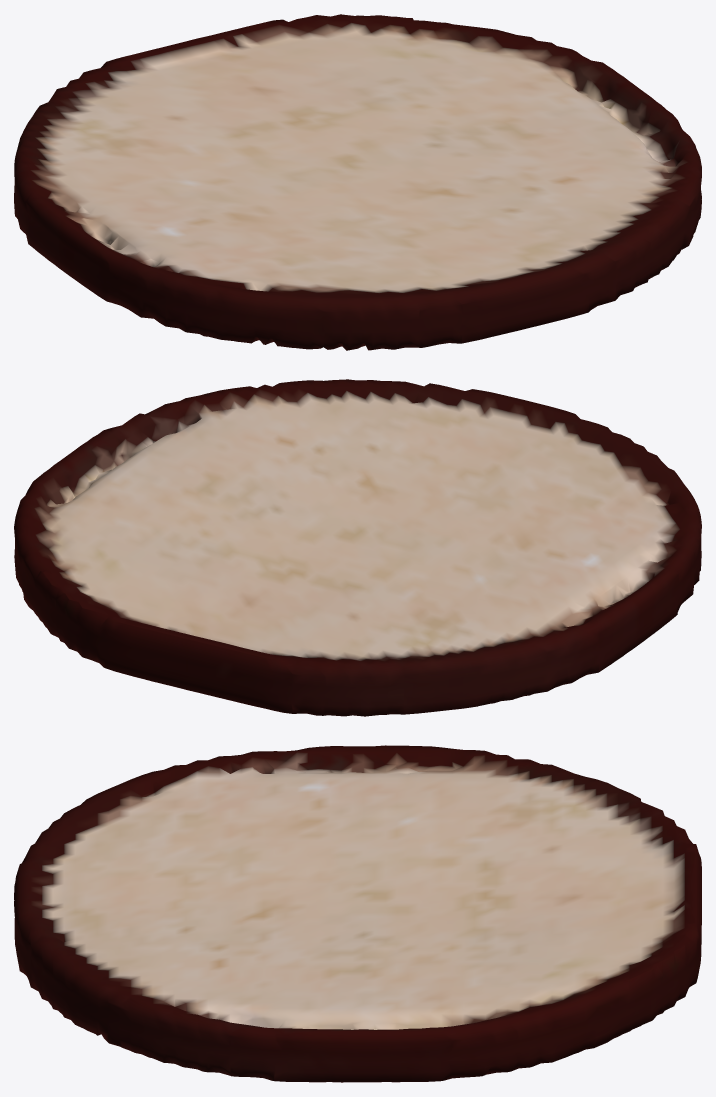
The model's file is a clock.obj.
3 views of the same model, one above another, from view 1: azimuth 30°, elevation 25°; view 2: azimuth 150°, elevation 25°; view 3: azimuth 270°, elevation 25° (orthographic). The views are drawn at different scales.
Size of the model in its own units: 1 by 0.0852 by 1.
